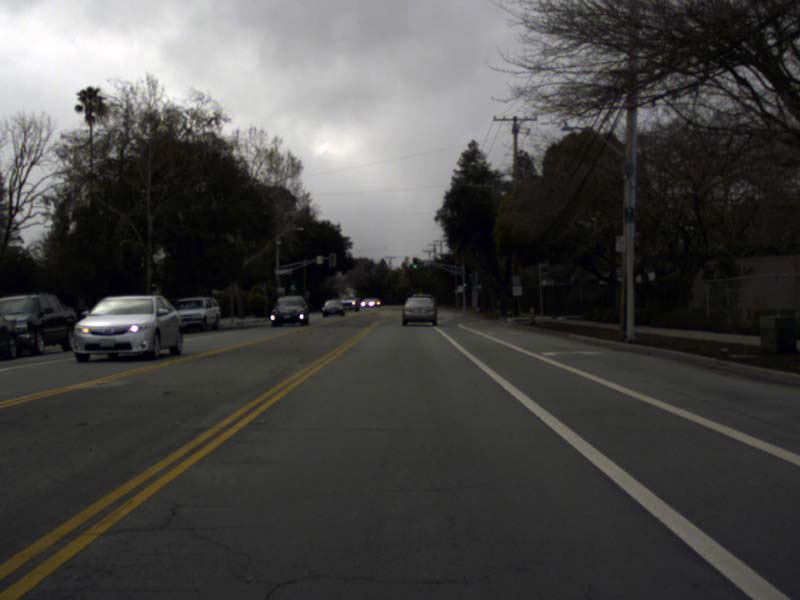Green: (412, 256, 418, 268), (463, 280, 468, 293), (290, 277, 294, 289)
